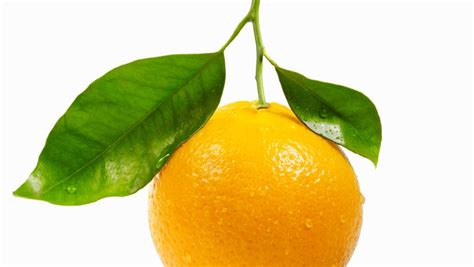orange: (140, 97, 370, 267)
